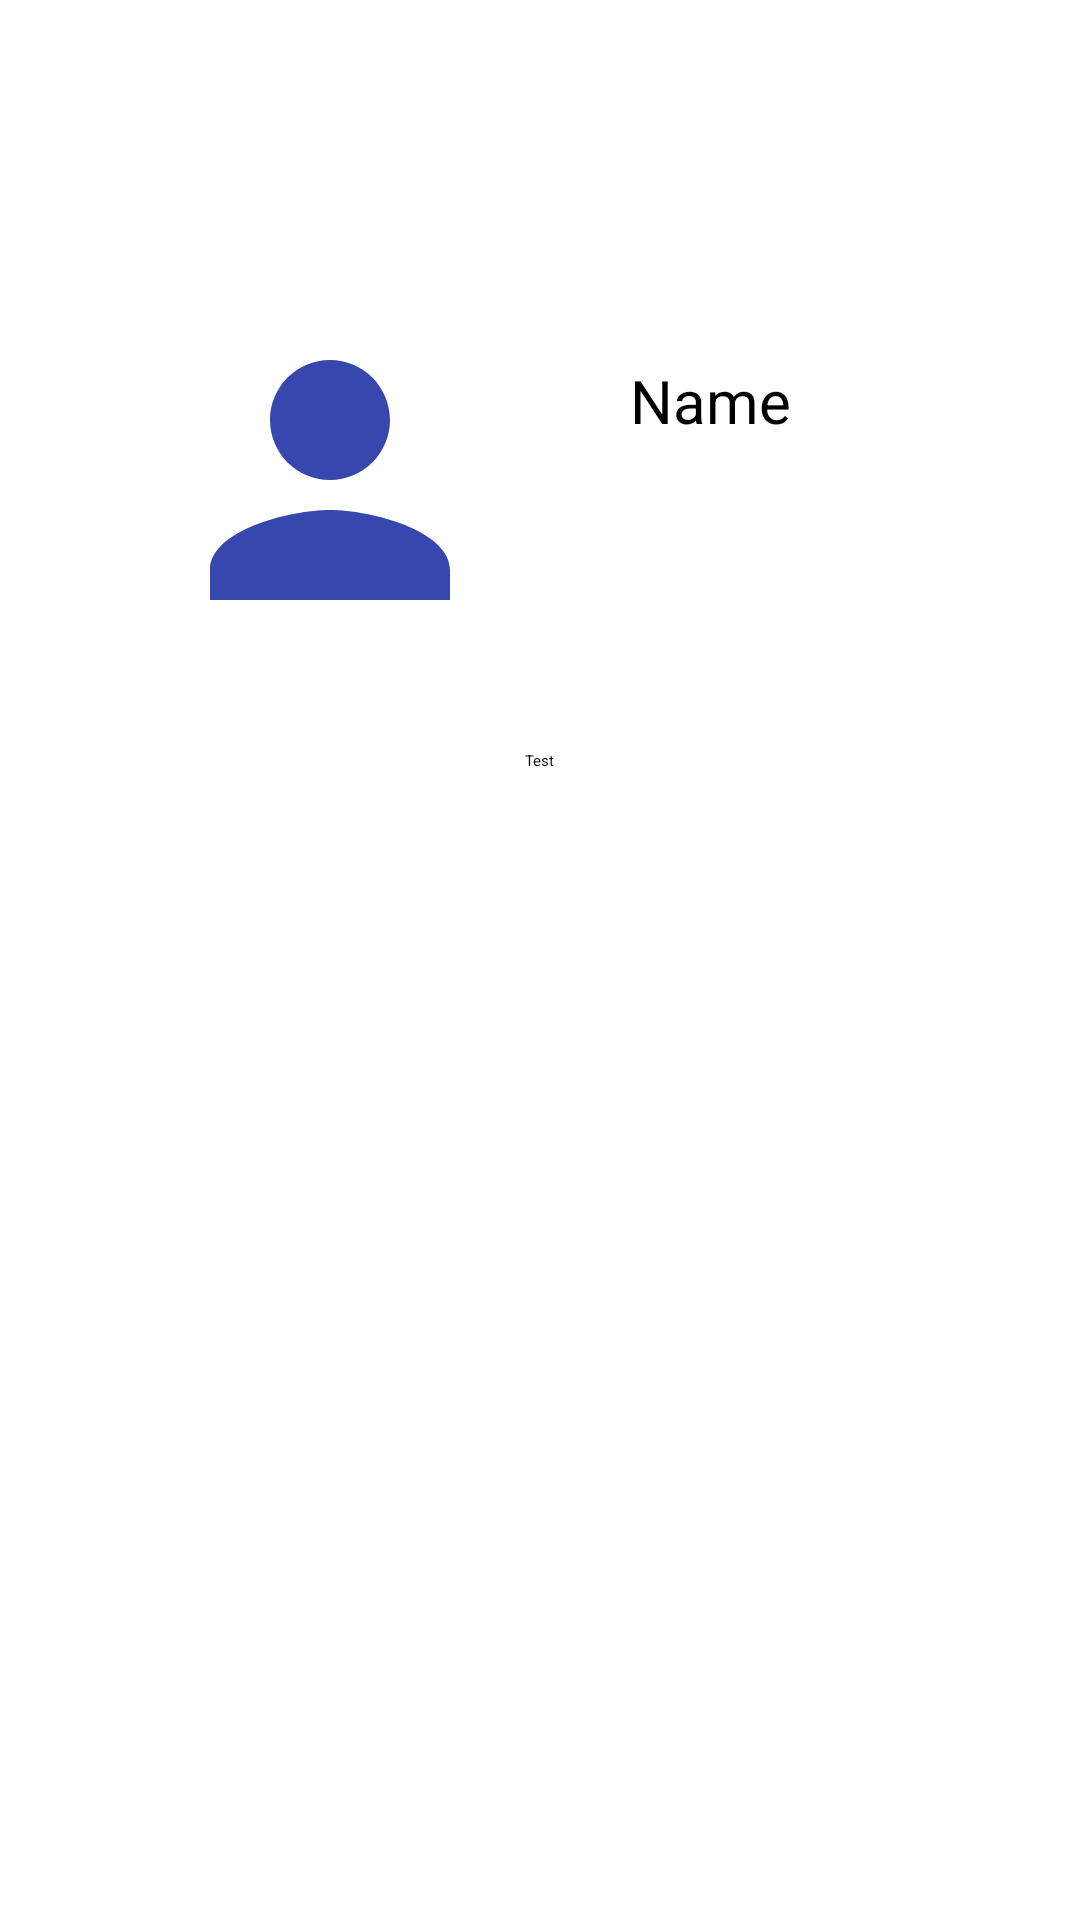

Point at icon controls on the screen. Image size 1080px x 1920px, points as (x=x, y=y).
person: (x=330, y=480)
